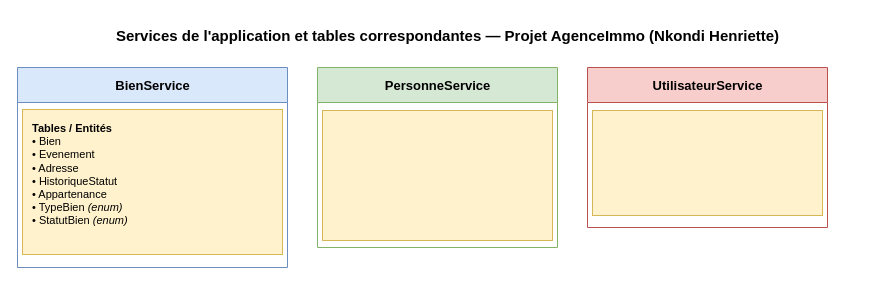
The diagram is 895 pixels wide and 285 high, and some of its shapes have lost their labels. The shapes that lost their labels are listed below. From the top down, each one's centre as x and y in pixels, then its label:
At pixel 437 175: "Tables / Entités • Personne • Bien • Appartenance • Adresse".
At pixel 707 163: "Tables / Entités • Utilisateur".
